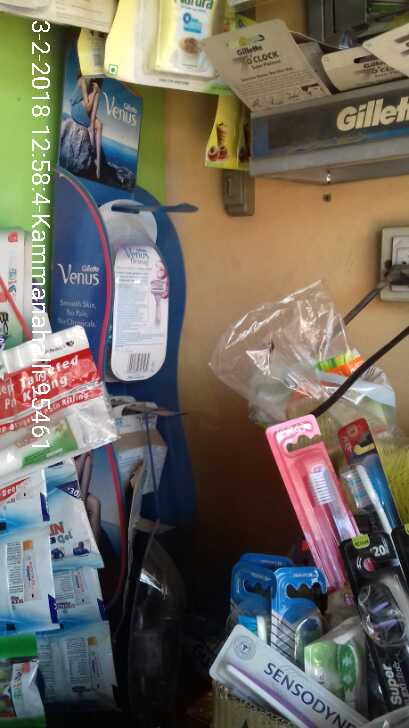reject: (236, 361, 354, 421)
